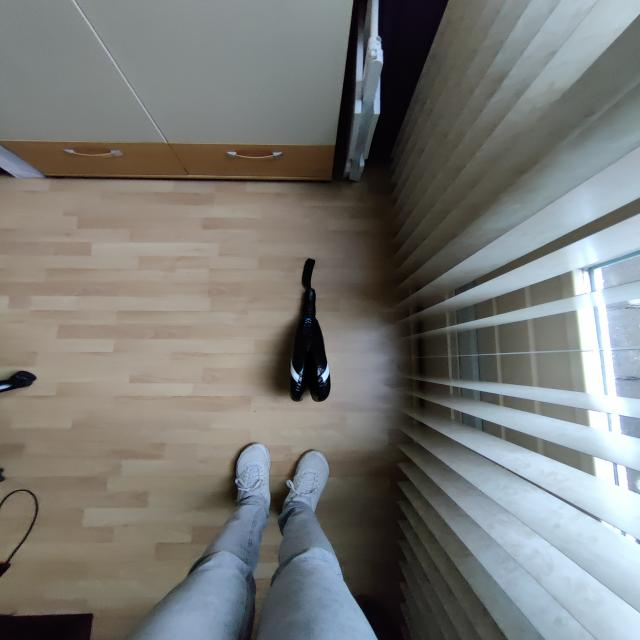paddle: (278, 250, 341, 406)
